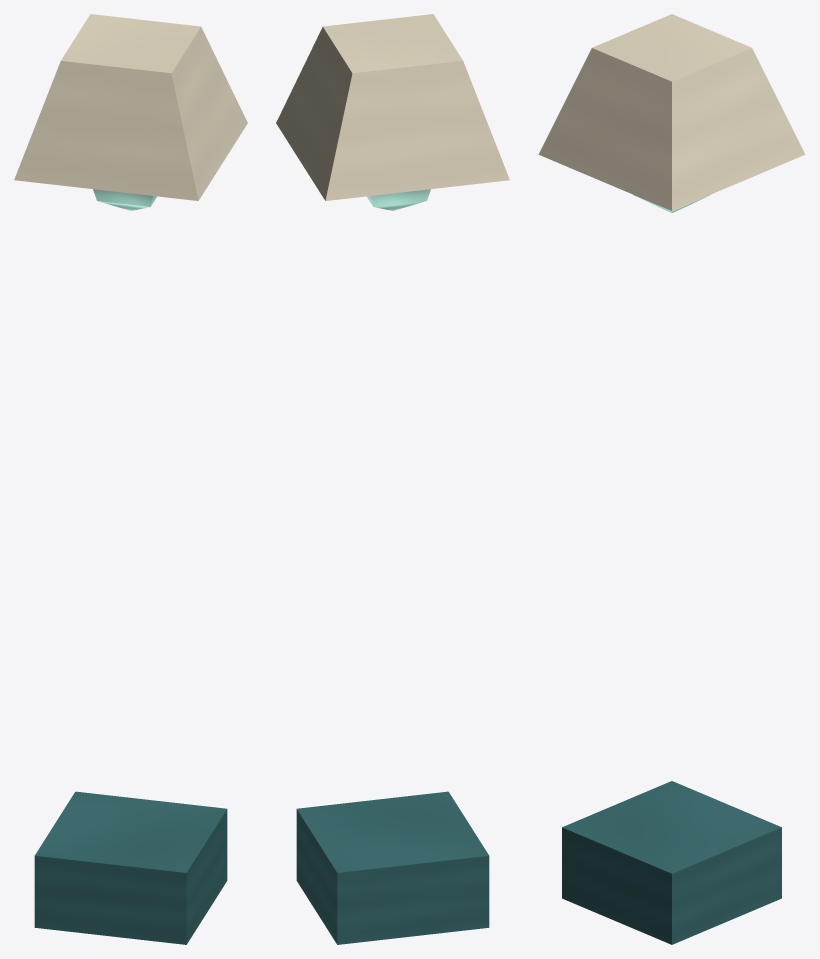
Rendered from atlas100-porcelain-util01.lod2.glb.
3 views of the same model, side by side, from view 1: azimuth 30°, elevation 25°; view 2: azimuth 150°, elevation 25°; view 3: azimuth 270°, elevation 25° (orthographic).
Visible parts, largest first — view 1: atlas100-porcelain-util01:part-002, atlas100-porcelain-util01:part-000, atlas100-porcelain-util01:part-003; view 2: atlas100-porcelain-util01:part-002, atlas100-porcelain-util01:part-000, atlas100-porcelain-util01:part-003; view 3: atlas100-porcelain-util01:part-002, atlas100-porcelain-util01:part-000.
Boxes of the visible parts, box(x1,y1,x2,y2) form: atlas100-porcelain-util01:part-002: box(14, 14, 247, 200); atlas100-porcelain-util01:part-000: box(34, 791, 227, 944); atlas100-porcelain-util01:part-003: box(93, 189, 156, 210); atlas100-porcelain-util01:part-002: box(276, 14, 509, 200); atlas100-porcelain-util01:part-000: box(296, 791, 489, 944); atlas100-porcelain-util01:part-003: box(367, 189, 430, 210); atlas100-porcelain-util01:part-002: box(538, 14, 805, 210); atlas100-porcelain-util01:part-000: box(562, 781, 781, 944).
Size of the model in its own units: 0.7582 by 2.66 by 0.7582.
3 materials, 3 textured.
